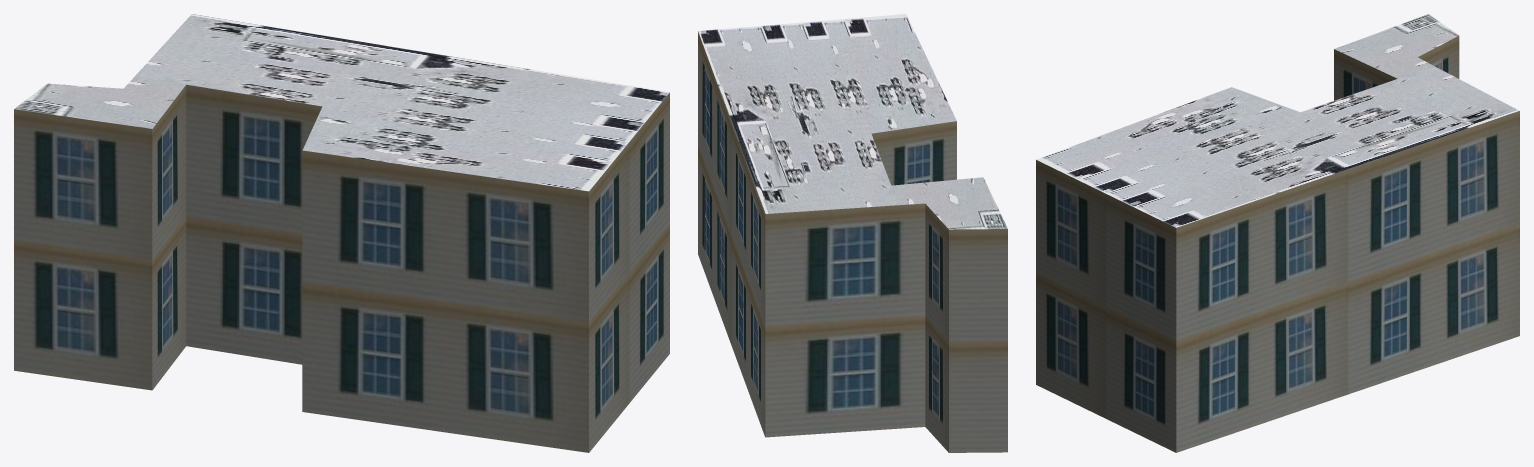
Rendered from ResTex__3569.fbx.
The picture shows the model from 3 angles, left to right: view 1: azimuth 30°, elevation 25°; view 2: azimuth 150°, elevation 25°; view 3: azimuth 270°, elevation 25°; orthographic projection. The views are drawn at different scales.
Visible parts, largest first — view 1: CityEngineMaterial_7_m, CityEngineMaterial_8_m; view 2: CityEngineMaterial_7_m, CityEngineMaterial_8_m; view 3: CityEngineMaterial_7_m, CityEngineMaterial_8_m.
Part boxes in pixels (x1,y1,x2,y2): CityEngineMaterial_7_m: [14, 84, 669, 452]; CityEngineMaterial_8_m: [14, 14, 669, 191]; CityEngineMaterial_7_m: [698, 31, 1007, 452]; CityEngineMaterial_8_m: [698, 14, 1007, 229]; CityEngineMaterial_7_m: [1036, 36, 1519, 452]; CityEngineMaterial_8_m: [1036, 14, 1519, 227].
Size of the model in its own units: 12.23 by 6 by 11.69.
2 materials, 2 textured.
